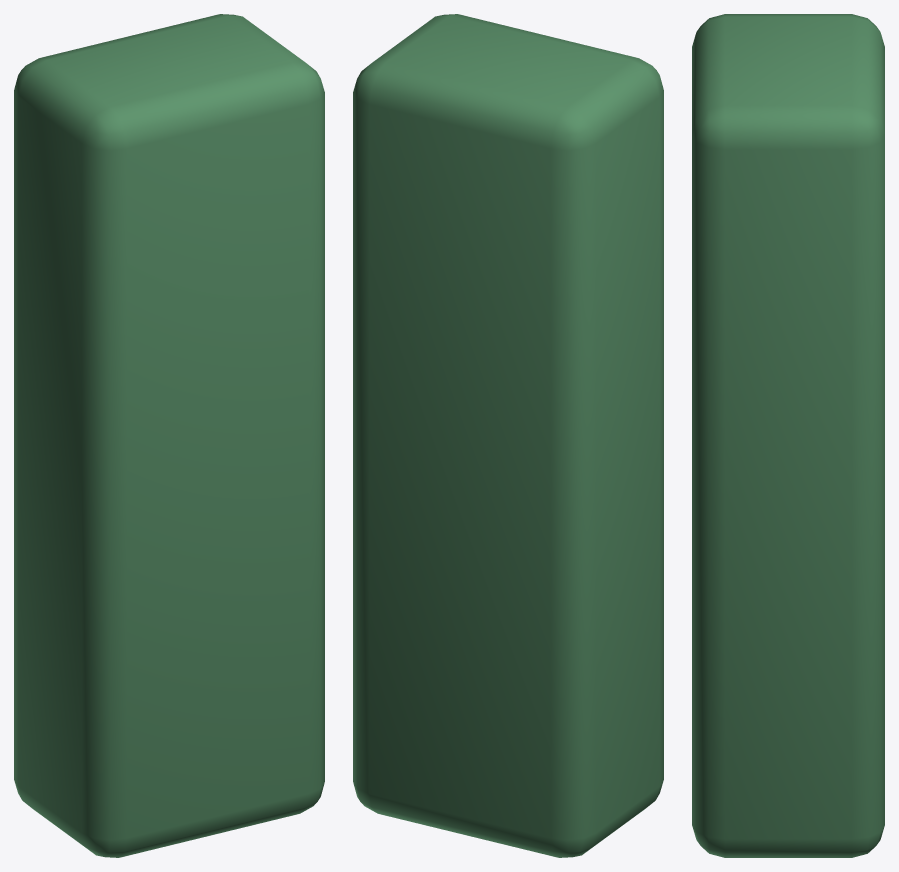
File: landscape.hedge.h3000.glb
3 views of the same model, side by side, from view 1: azimuth 30°, elevation 25°; view 2: azimuth 150°, elevation 25°; view 3: azimuth 270°, elevation 25° (orthographic).
Visible parts, largest first — view 1: main__foliage_dark; view 2: main__foliage_dark; view 3: main__foliage_dark.
Part boxes in pixels (x1,y1,x2,y2): main__foliage_dark: (14,14,324,857); main__foliage_dark: (353,14,663,857); main__foliage_dark: (692,14,884,857).
Bounding box in the file's own units: 1 × 3 × 0.7.
